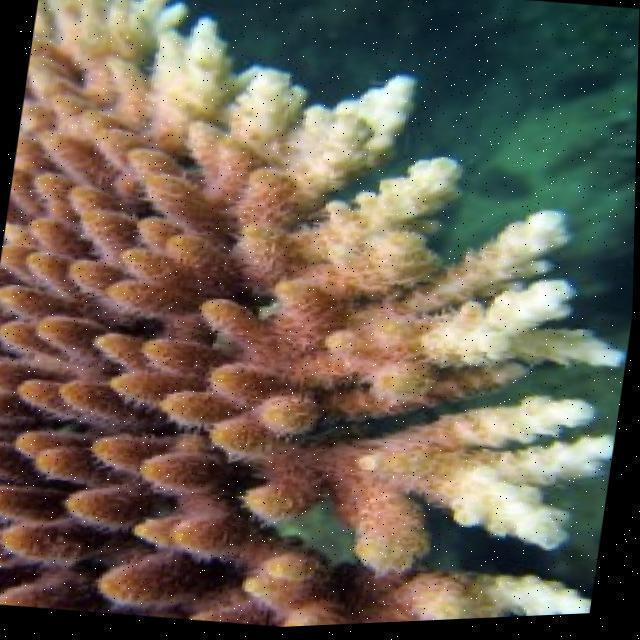Bleached Coral: (1, 0, 475, 213), (437, 213, 636, 632)
